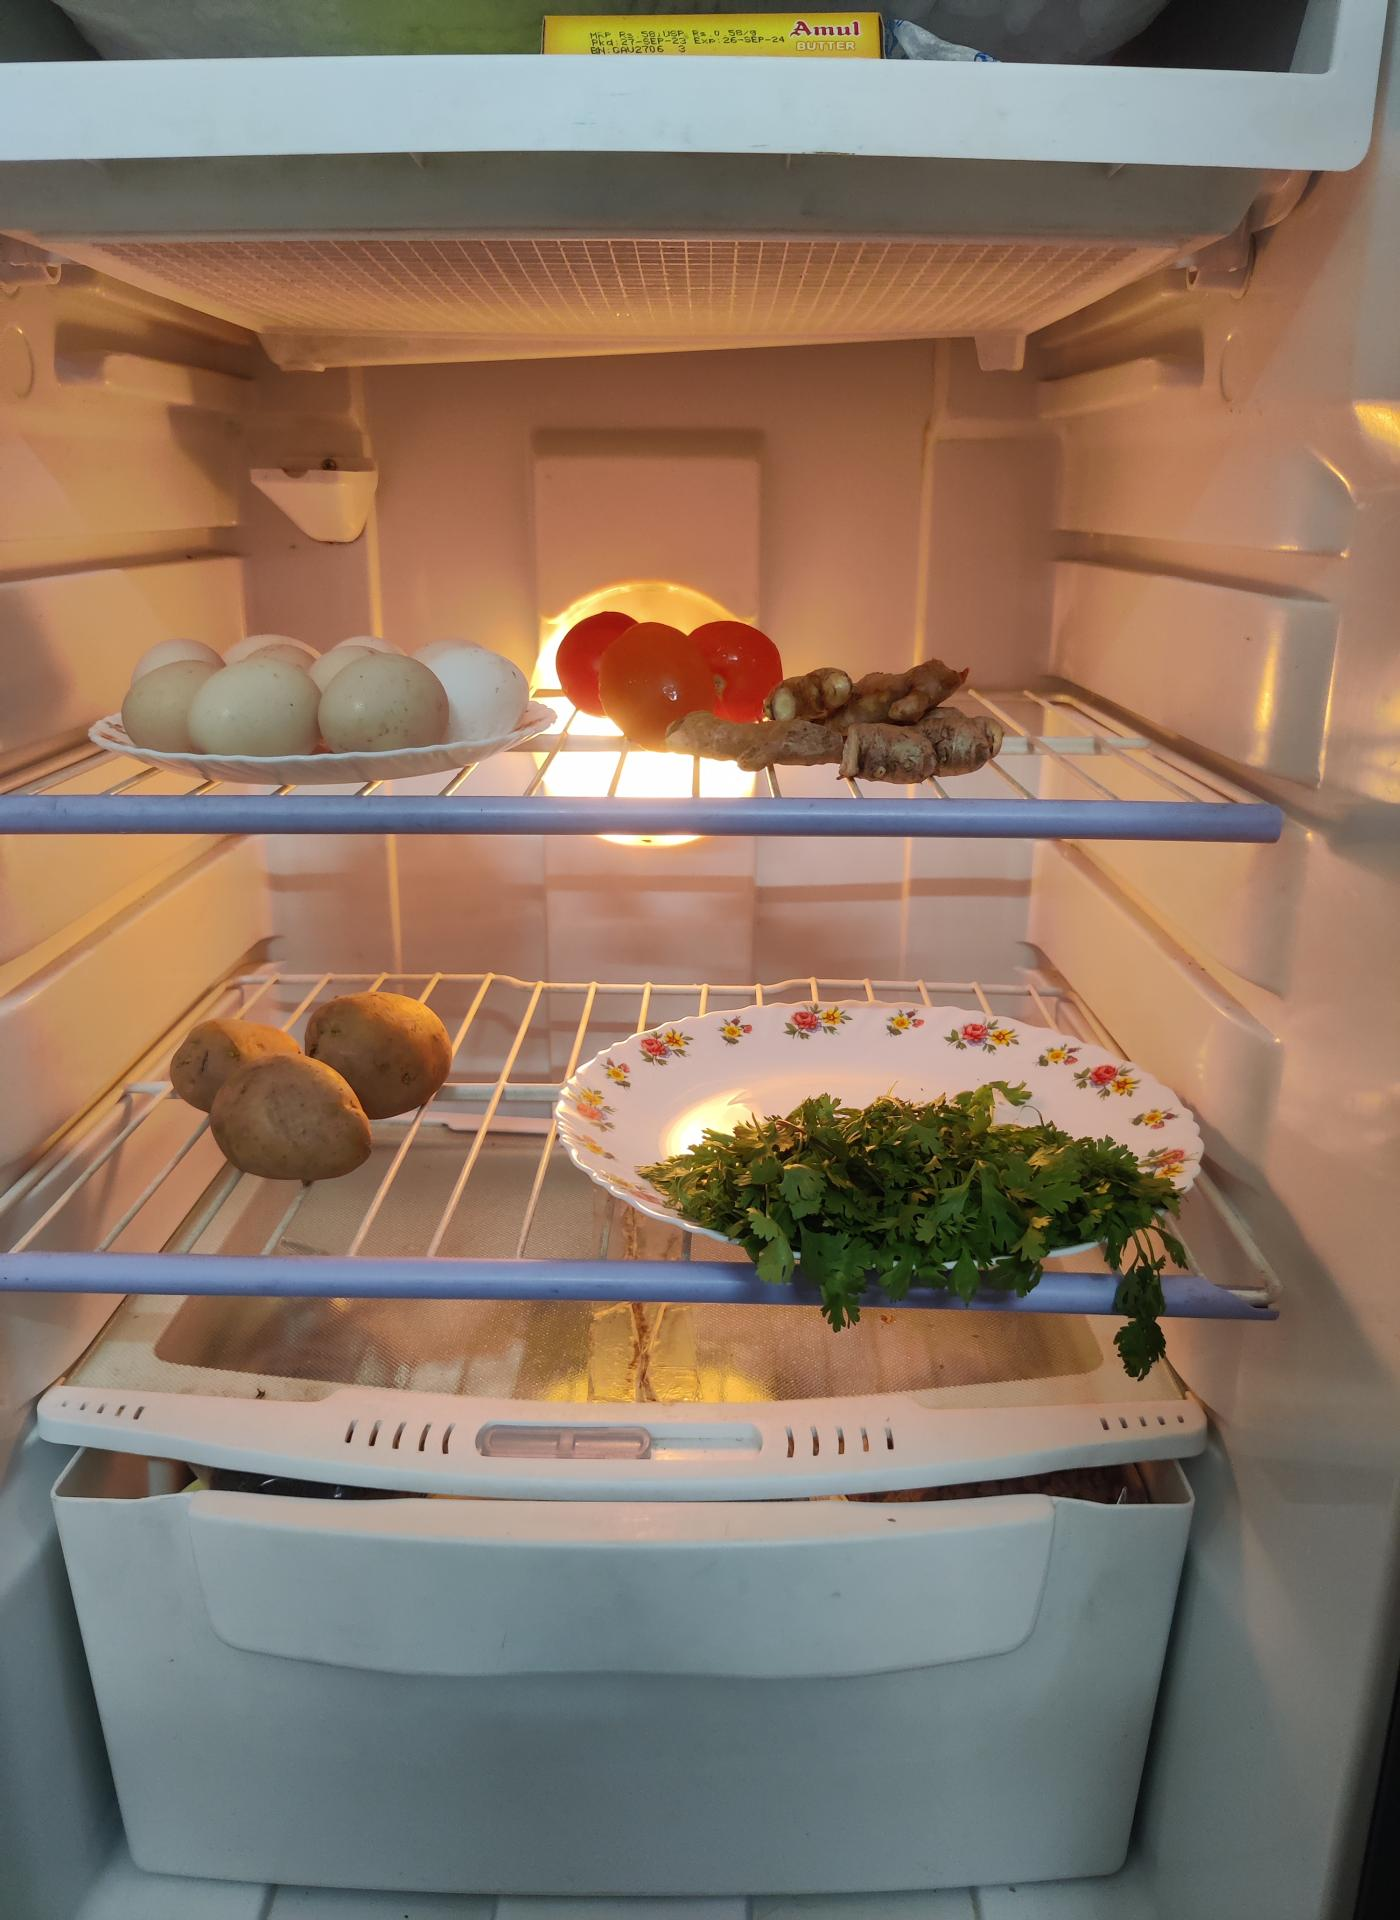coriander: (652, 1087, 1182, 1294)
egg: (119, 640, 525, 771)
ginger: (763, 659, 994, 787)
potato: (174, 990, 447, 1169)
tomato: (555, 601, 789, 729)
